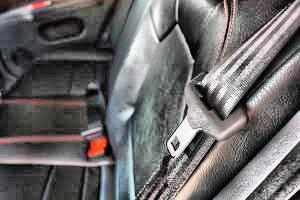seatbelt: (134, 2, 299, 198)
